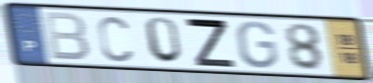0: (142, 16, 183, 66)
8: (282, 22, 325, 72)
B: (41, 10, 92, 63)
C: (95, 14, 134, 64)
G: (235, 20, 280, 70)
Z: (182, 16, 239, 69)
